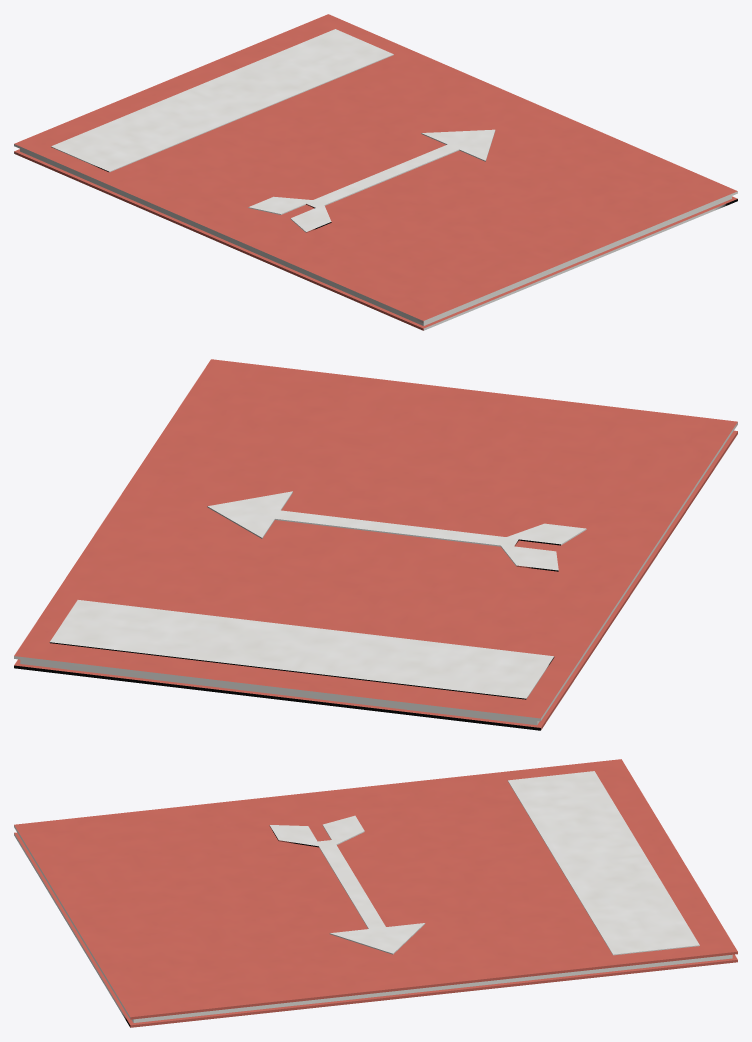
The model's file is FL_ArcheryMag1.fbx.
3 views of the same model, one above another, from view 1: azimuth 30°, elevation 25°; view 2: azimuth 150°, elevation 25°; view 3: azimuth 270°, elevation 25° (orthographic). The views are drawn at different scales.
Parts seen in each view (by area): view 1: FL_ArcheryMag1; view 2: FL_ArcheryMag1; view 3: FL_ArcheryMag1.
Part boxes in pixels (x1,y1,x2,y2): FL_ArcheryMag1: (14,14,737,330); FL_ArcheryMag1: (14,359,737,730); FL_ArcheryMag1: (14,759,737,1027).
Bounding box in the file's own units: 0.0227 × 0.000475 × 0.0269.
